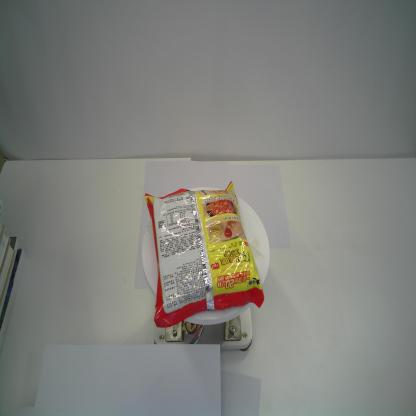Instant Noodles: (144, 182, 265, 329)
